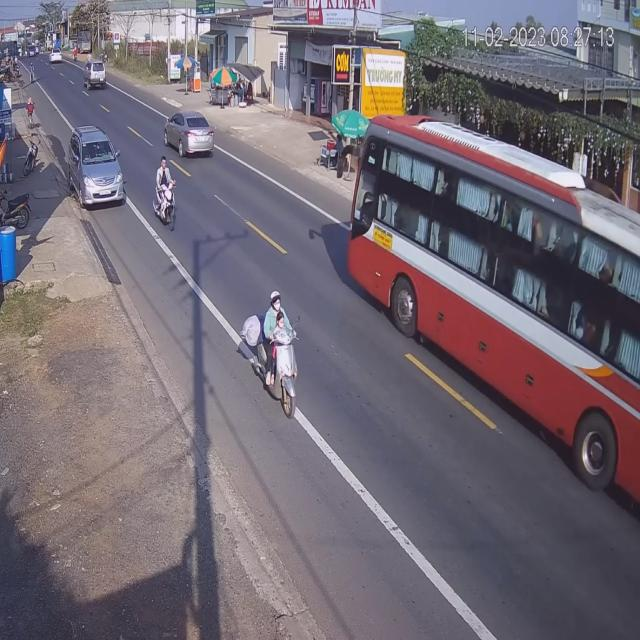bus: (351, 112, 640, 516)
car: (68, 127, 123, 210), (163, 111, 216, 161), (86, 58, 108, 90)
motorbike: (244, 291, 302, 420), (153, 158, 176, 232)
